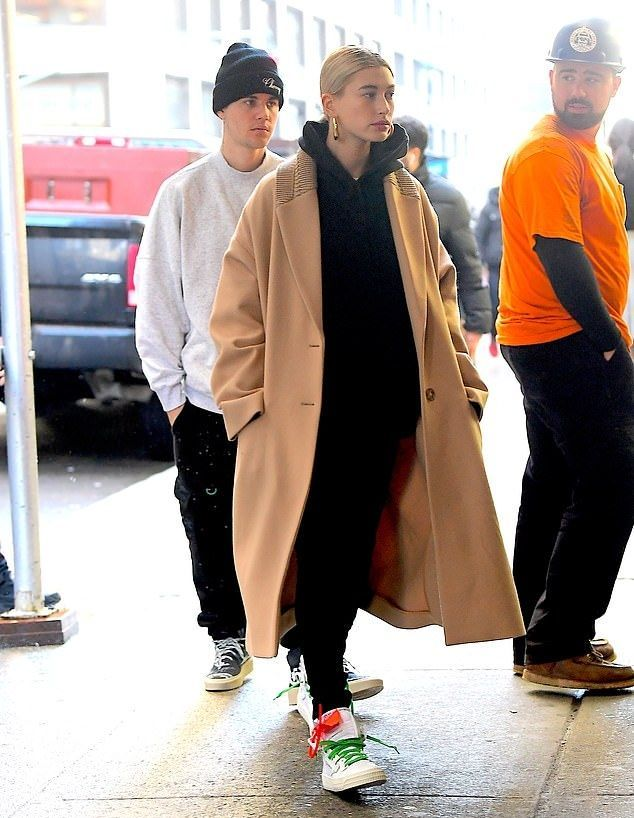Person: (286, 43, 484, 794), (495, 22, 634, 690), (146, 42, 284, 233)
